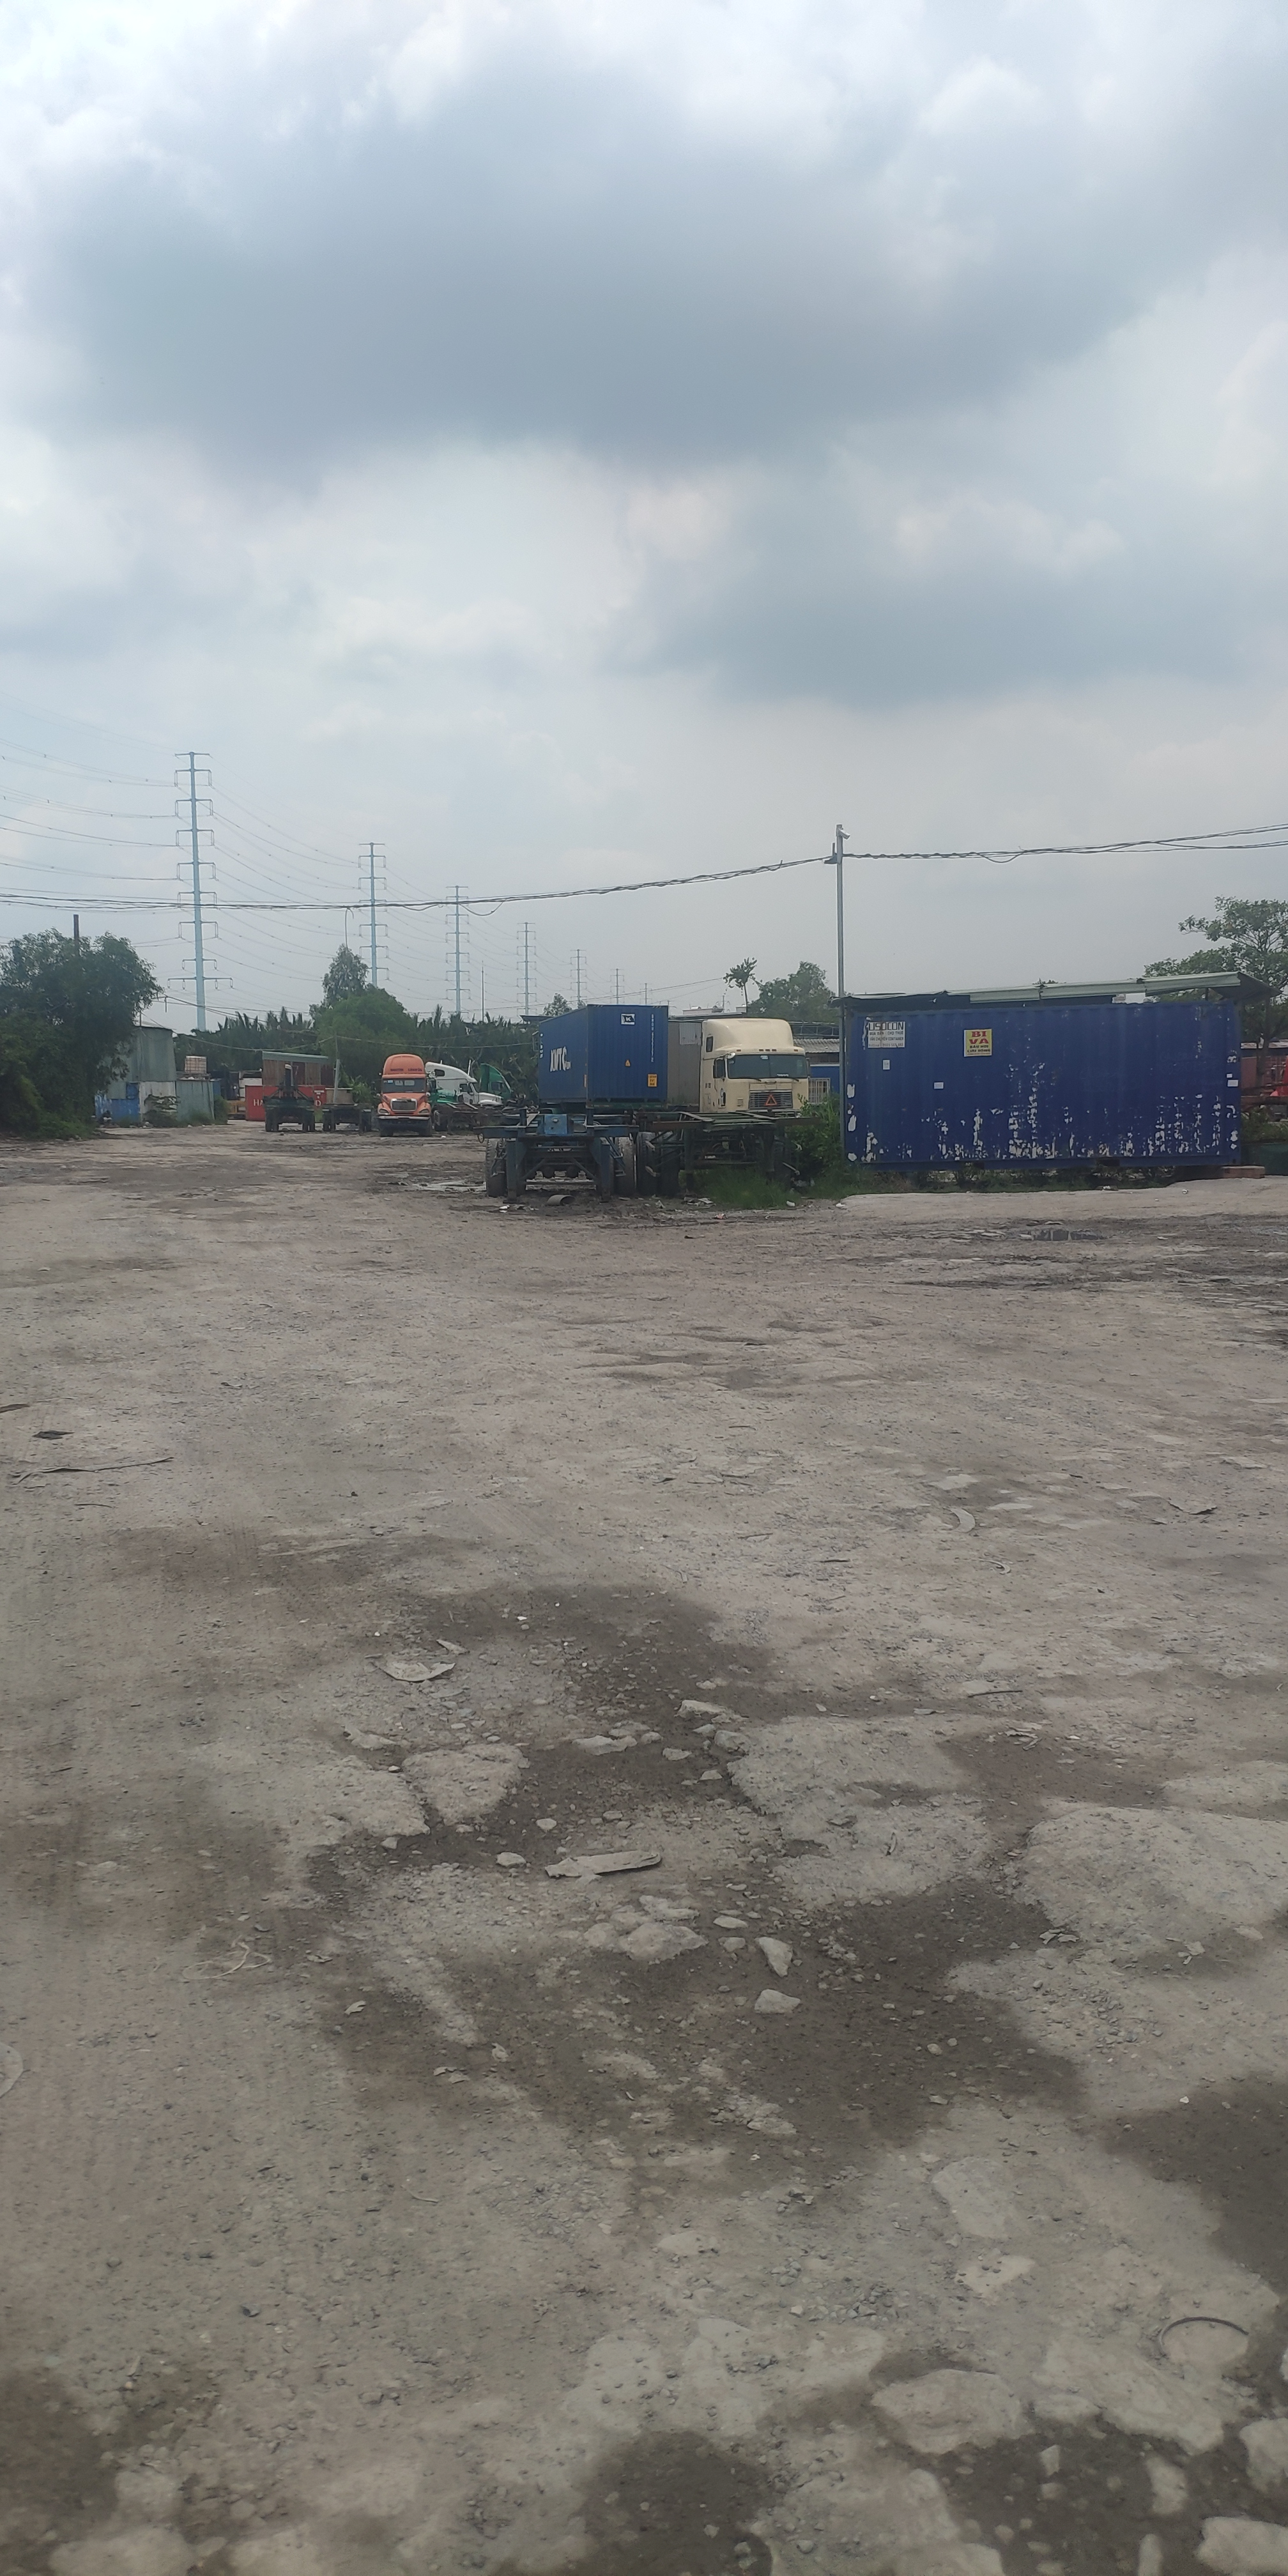hole: (319, 1605, 812, 1919), (885, 1268, 1076, 1295), (578, 1345, 716, 1382), (1001, 1224, 1112, 1249), (761, 1314, 838, 1339), (171, 1188, 207, 1203)
